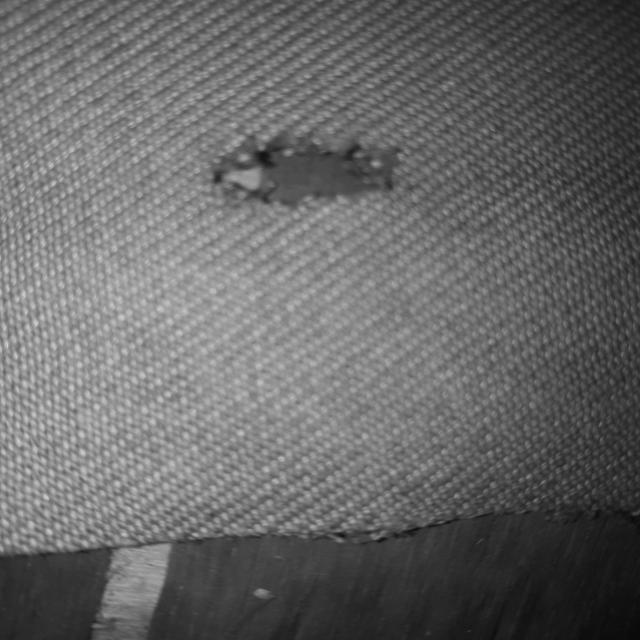other: (160, 98, 444, 278)
